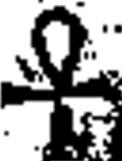Ankh: (2, 9, 115, 160)
